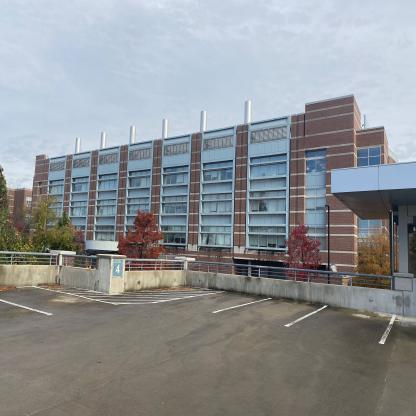EB-1: (27, 89, 406, 299)
